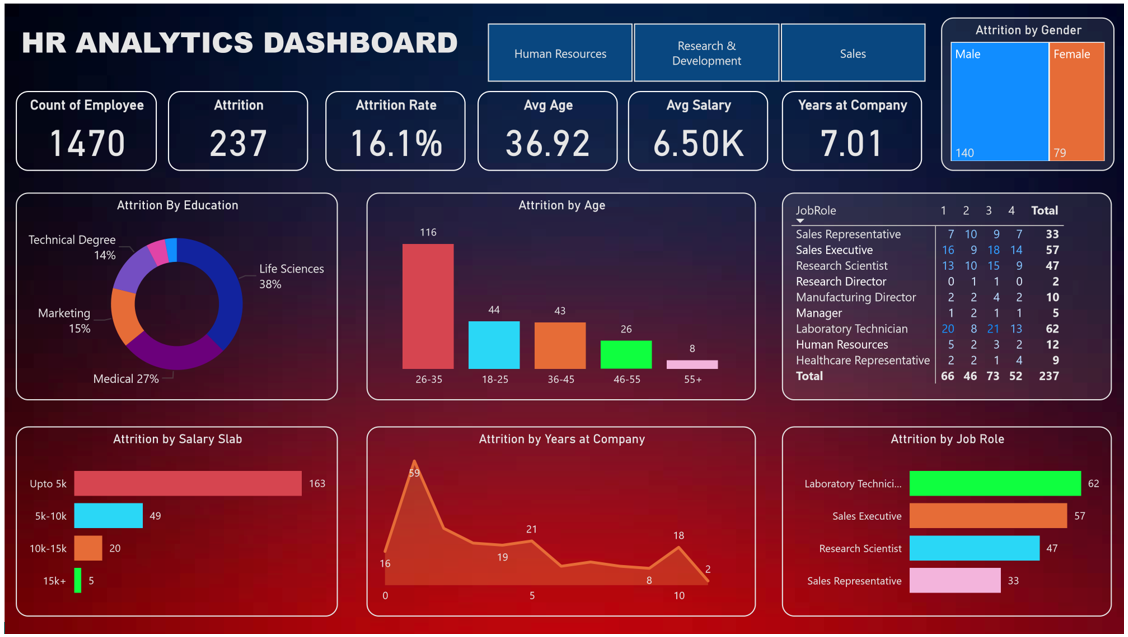

What the dashboard file says about the page in this screenshot:
{"tool":"powerbi","page":{"name":"Page 1","canvas":[1280,720],"ordinal":0},"visuals":[{"type":"card","title":"Count of Employee","fields":{"Values":["CountNonNull(HR_Analytics.EmpID)"]},"box":[12.9,100,161.4,91.4],"z":0},{"type":"card","title":"Attrition","fields":{"Values":["Sum(HR_Analytics.AttritionCount)"]},"box":[187.1,100,160,91.4],"z":1},{"type":"card","title":"Attrition Rate","fields":{"Values":["HR_Analytics.AttritionRate"]},"box":[367.1,100,160,91.4],"z":2},{"type":"card","title":"Avg Age","fields":{"Values":["Avg(HR_Analytics.Age)"]},"box":[541.4,100,160,91.4],"z":3},{"type":"card","title":"Avg Salary","fields":{"Values":["Avg(HR_Analytics.MonthlyIncome)"]},"box":[712.9,100,160,91.4],"z":4},{"type":"card","title":"Years at Company","fields":{"Values":["Avg(HR_Analytics.YearsAtCompany)"]},"box":[888.6,100,160,91.4],"z":5},{"type":"donutChart","title":"Attrition By Education","fields":{"Category":["HR_Analytics.EducationField"],"Y":["Sum(HR_Analytics.AttritionCount)"]},"box":[12.9,215.7,368.6,237.1],"z":6},{"type":"columnChart","title":"Attrition by Age","fields":{"Category":["HR_Analytics.AgeGroup"],"Y":["Sum(HR_Analytics.AttritionCount)"]},"box":[414.3,215.7,444.3,237.1],"z":7},{"type":"pivotTable","fields":{"Rows":["HR_Analytics.JobRole"],"Columns":["HR_Analytics.JobSatisfaction"],"Values":["Sum(HR_Analytics.AttritionCount)"]},"box":[888.6,215.7,377.1,237.1],"z":8},{"type":"barChart","title":"Attrition by Salary Slab","fields":{"Category":["HR_Analytics.SalarySlab"],"Y":["Sum(HR_Analytics.AttritionCount)"]},"box":[12.9,482.9,368.6,217.1],"z":9},{"type":"barChart","title":"Attrition by Job Role","fields":{"Category":["HR_Analytics.JobRole"],"Y":["Sum(HR_Analytics.AttritionCount)"]},"box":[888.6,482.9,377.1,217.1],"z":10},{"type":"areaChart","title":"Attrition by Years at Company","fields":{"Category":["HR_Analytics.YearsAtCompany"],"Y":["Sum(HR_Analytics.AttritionCount)"]},"box":[414.3,482.9,444.3,217.1],"z":11},{"type":"treemap","title":"Attrition by Gender","fields":{"Group":["HR_Analytics.Gender"],"Values":["Sum(HR_Analytics.AttritionCount)"]},"box":[1071.4,15.7,197.1,175.7],"z":12},{"type":"slicer","fields":{"Values":["HR_Analytics.Department"]},"box":[527.1,15.7,550,80],"z":13},{"type":"textbox","box":[14.3,15.7,537.1,64.3],"z":14}]}

Visuals, with their boxes in screenshot pixels (x1, y1, x2, y2), scaled from the page's 1280x720 canvas onto the 1128x637 screenshot:
"Count of Employee" card: box=[11, 88, 154, 169]
"Attrition" card: box=[165, 88, 306, 169]
"Attrition Rate" card: box=[324, 88, 465, 169]
"Avg Age" card: box=[477, 88, 618, 169]
"Avg Salary" card: box=[628, 88, 769, 169]
"Years at Company" card: box=[783, 88, 924, 169]
"Attrition By Education" donutChart: box=[11, 191, 336, 401]
"Attrition by Age" columnChart: box=[365, 191, 757, 401]
pivotTable - HR_Analytics.JobRole x HR_Analytics.JobSatisfaction: box=[783, 191, 1115, 401]
"Attrition by Salary Slab" barChart: box=[11, 427, 336, 619]
"Attrition by Job Role" barChart: box=[783, 427, 1115, 619]
"Attrition by Years at Company" areaChart: box=[365, 427, 757, 619]
"Attrition by Gender" treemap: box=[944, 14, 1118, 169]
slicer - HR_Analytics.Department: box=[465, 14, 949, 85]
textbox: box=[13, 14, 486, 71]
